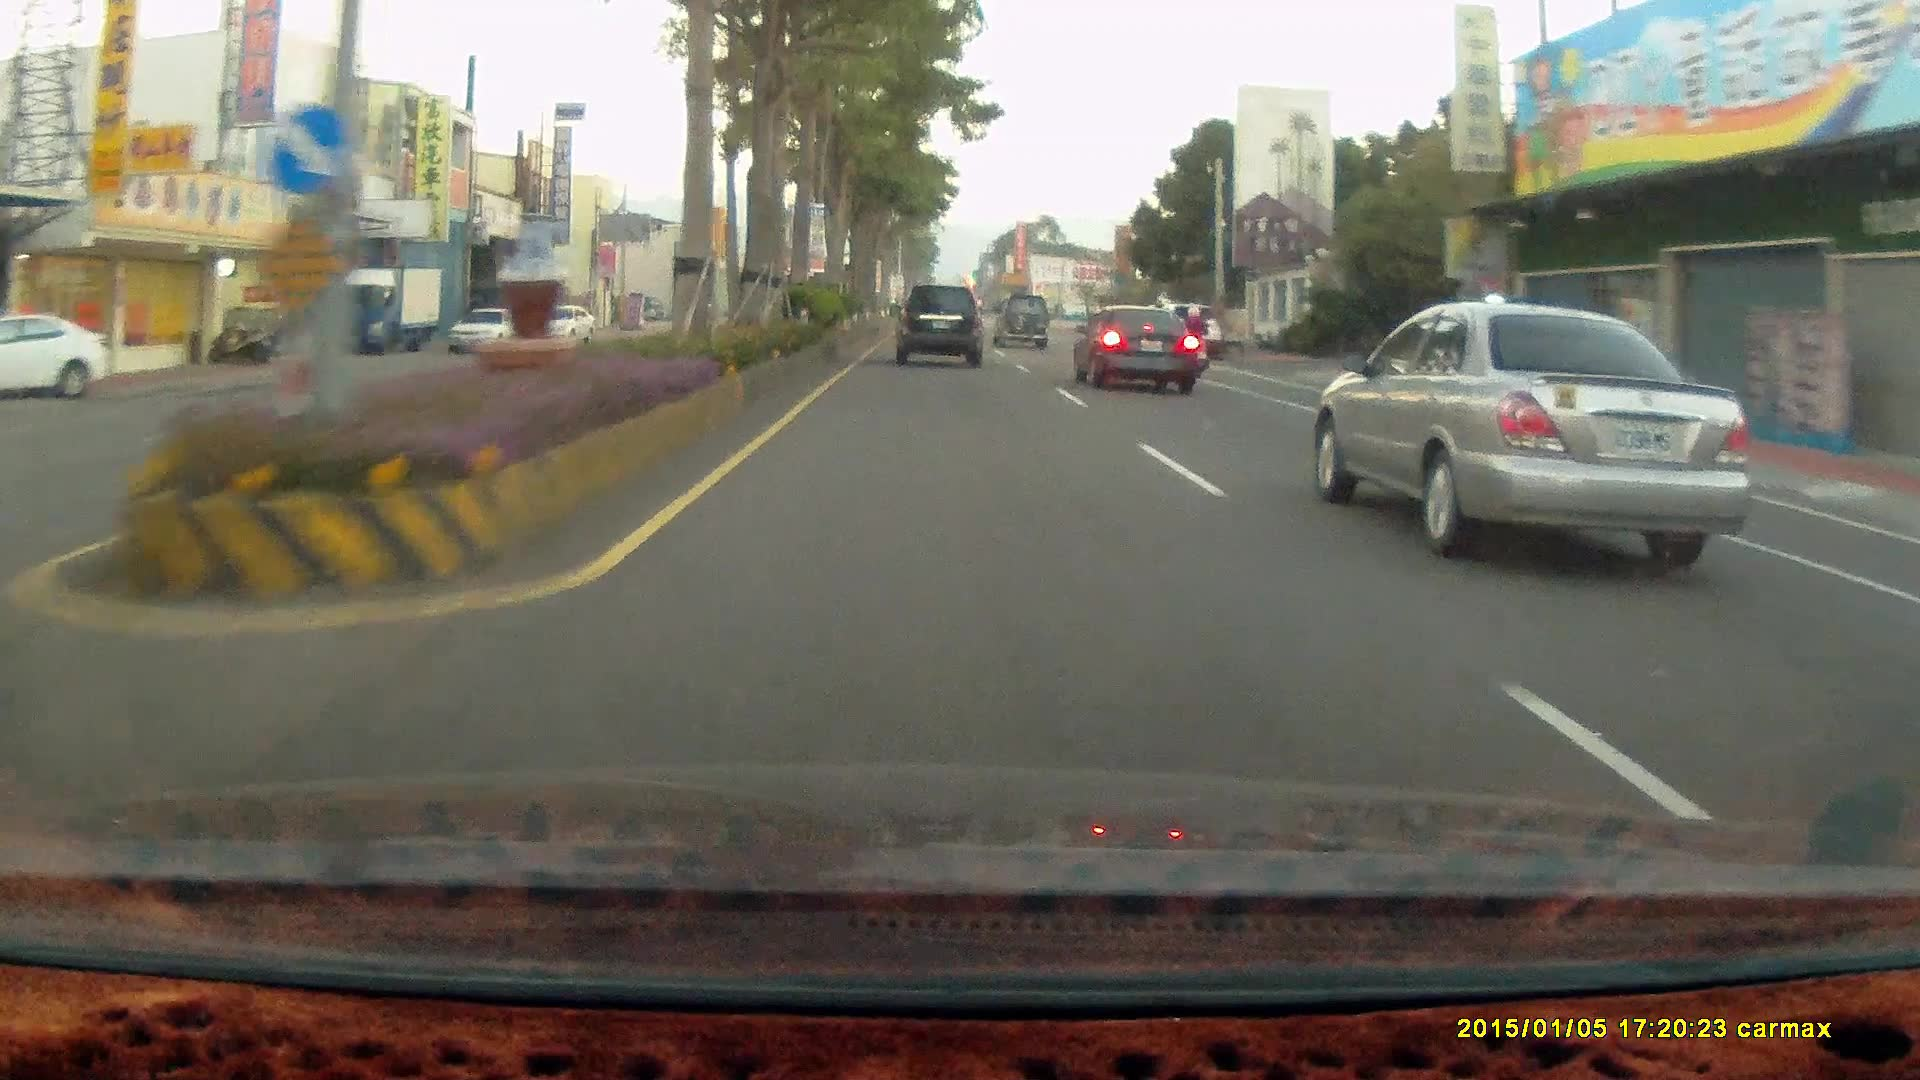rider: (1169, 301, 1214, 376)
vehicle: (1300, 298, 1746, 559), (1069, 302, 1198, 394), (1073, 306, 1201, 394), (1, 309, 117, 401), (328, 266, 445, 357), (326, 261, 442, 351), (892, 278, 987, 363), (895, 282, 981, 366), (450, 307, 534, 354), (446, 305, 529, 351), (991, 291, 1051, 351)
